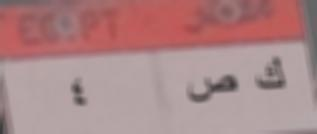4: (70, 75, 90, 110)
kaaf: (251, 53, 289, 97)
saad: (185, 72, 240, 106)
